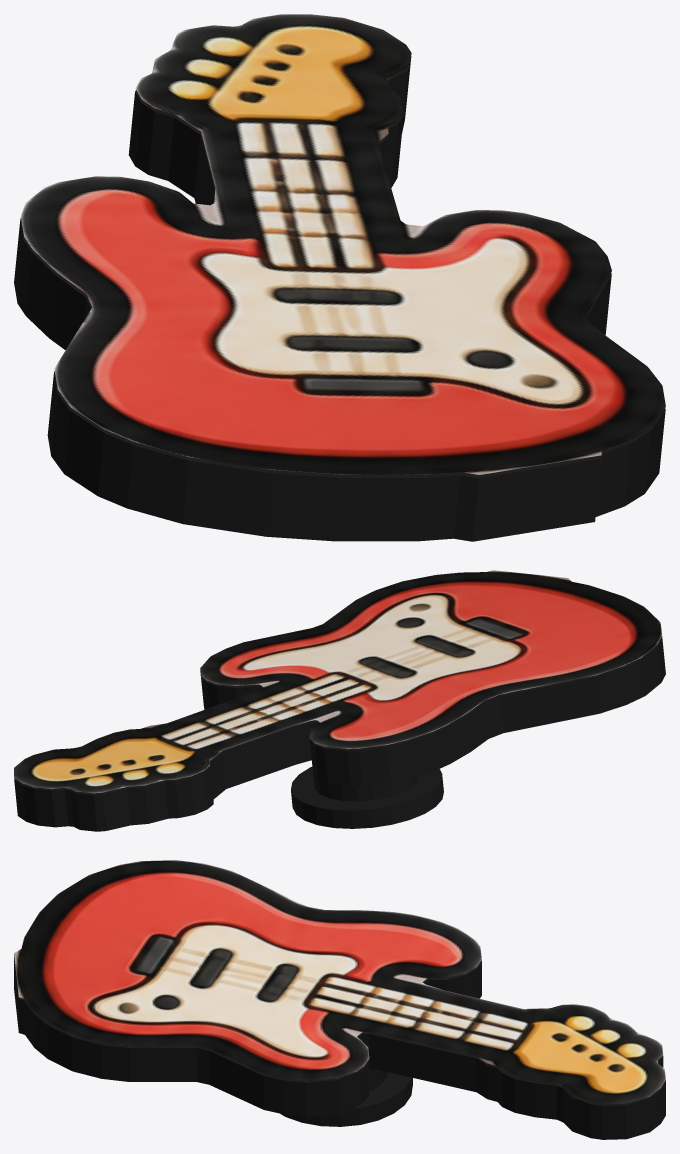
The model's file is music-electric-guitar.glb.
3 views of the same model, one above another, from view 1: azimuth 30°, elevation 25°; view 2: azimuth 150°, elevation 25°; view 3: azimuth 270°, elevation 25° (orthographic). The views are drawn at different scales.
Parts seen in each view (by area): view 1: MUSIC_Electric_Guitar_MODEL; view 2: MUSIC_Electric_Guitar_MODEL; view 3: MUSIC_Electric_Guitar_MODEL.
Part boxes in pixels (<box>): MUSIC_Electric_Guitar_MODEL: <box>14,14,665,541</box>; MUSIC_Electric_Guitar_MODEL: <box>14,570,665,831</box>; MUSIC_Electric_Guitar_MODEL: <box>14,860,665,1139</box>.
Bounding box in the file's own units: 0.3051 × 0.0989 × 0.419.
Materials: 3 (1 with a texture image).
